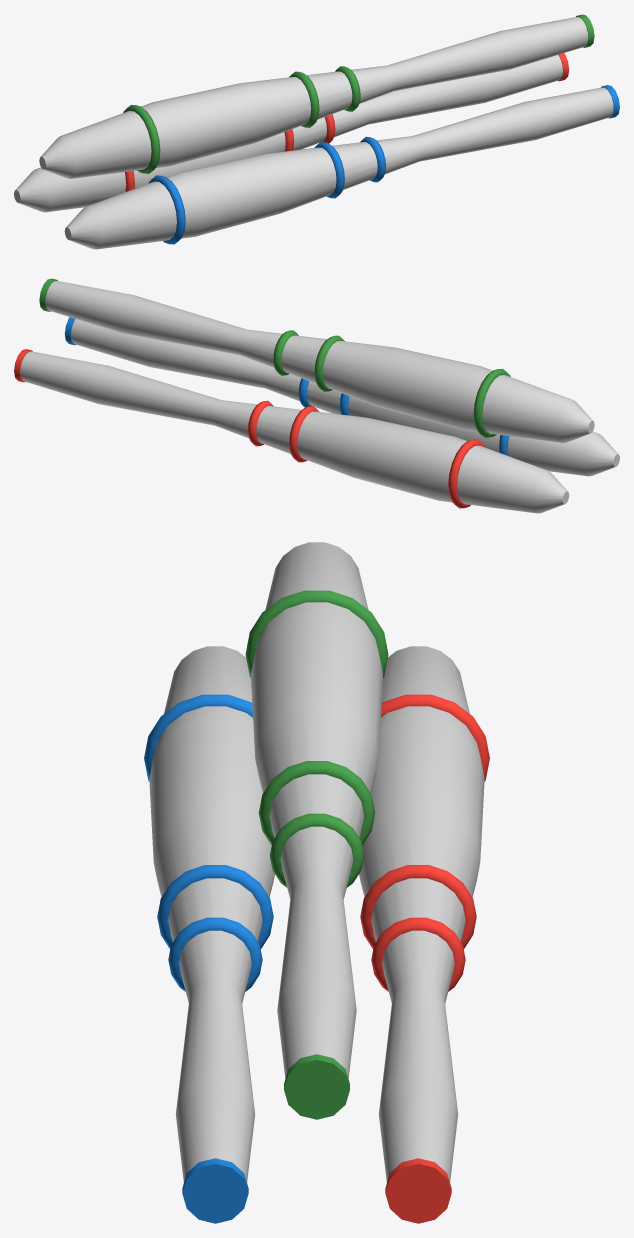
File: juggling_pins.fbx
3 views of the same model, one above another, from view 1: azimuth 30°, elevation 25°; view 2: azimuth 150°, elevation 25°; view 3: azimuth 270°, elevation 25° (orthographic). The views are drawn at different scales.
Parts seen in each view (by area): view 1: Juggling Pins; view 2: Juggling Pins; view 3: Juggling Pins.
Part boxes in pixels (bbox=[...]): Juggling Pins: bbox=[14, 14, 619, 249]; Juggling Pins: bbox=[14, 278, 619, 513]; Juggling Pins: bbox=[144, 542, 489, 1223].
Size of the model in its own units: 2.84 by 0.5791 by 0.784.
